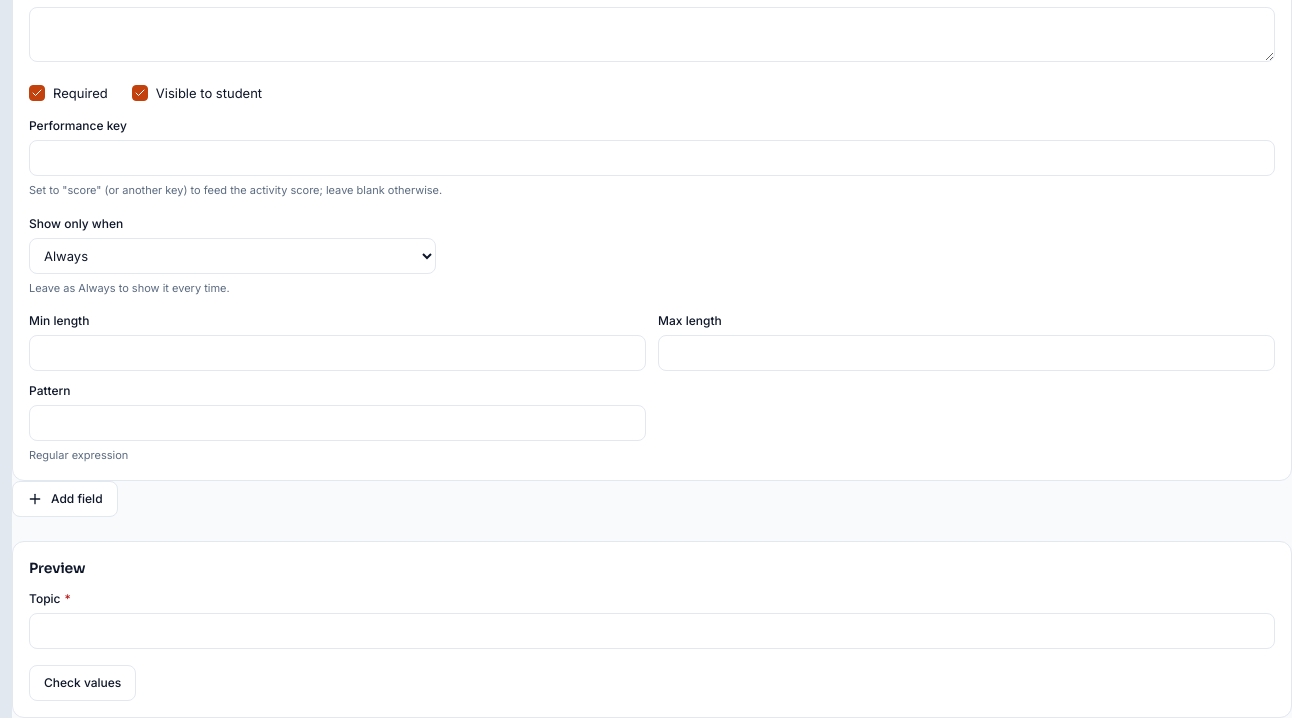
it: FieldEditor › shows field-level errors from a failing preview
(page scrolled)
Click the button "Check values": (83,683) [29,665,136,701]
(page scrolled)
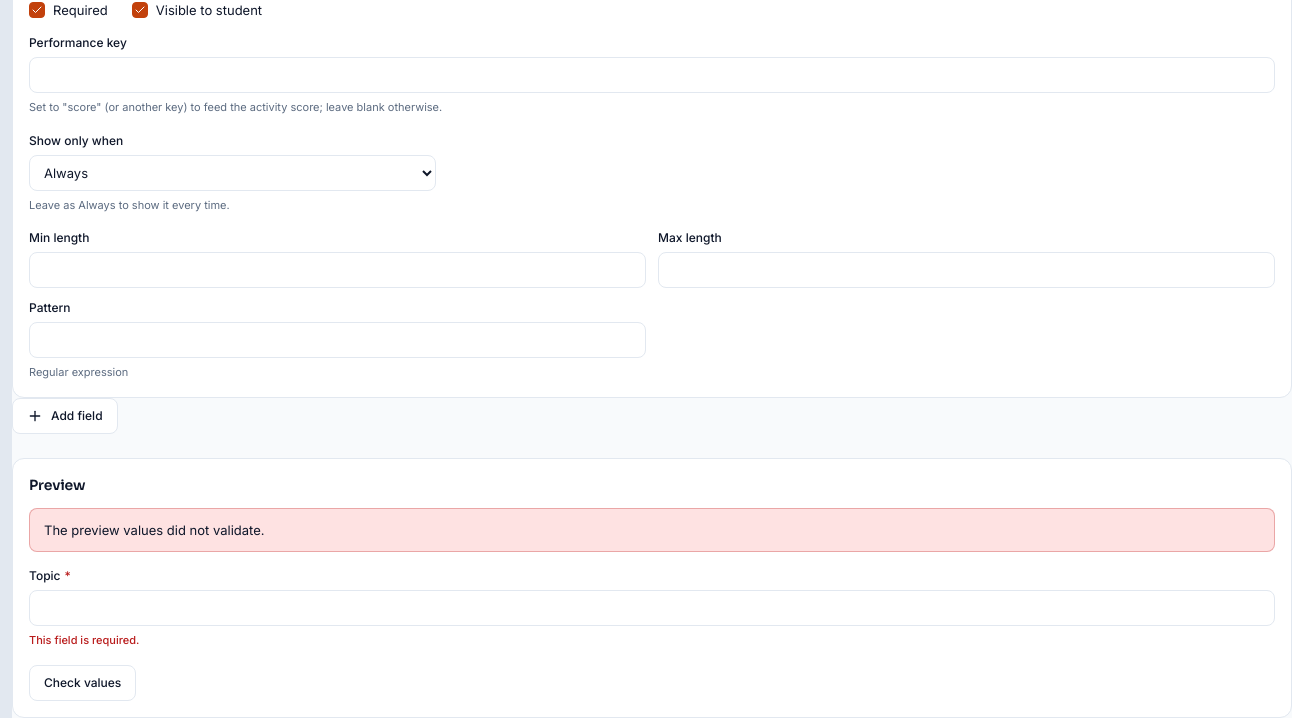
expect the text "This field is required." is shown: met, box [29,633,139,647]
